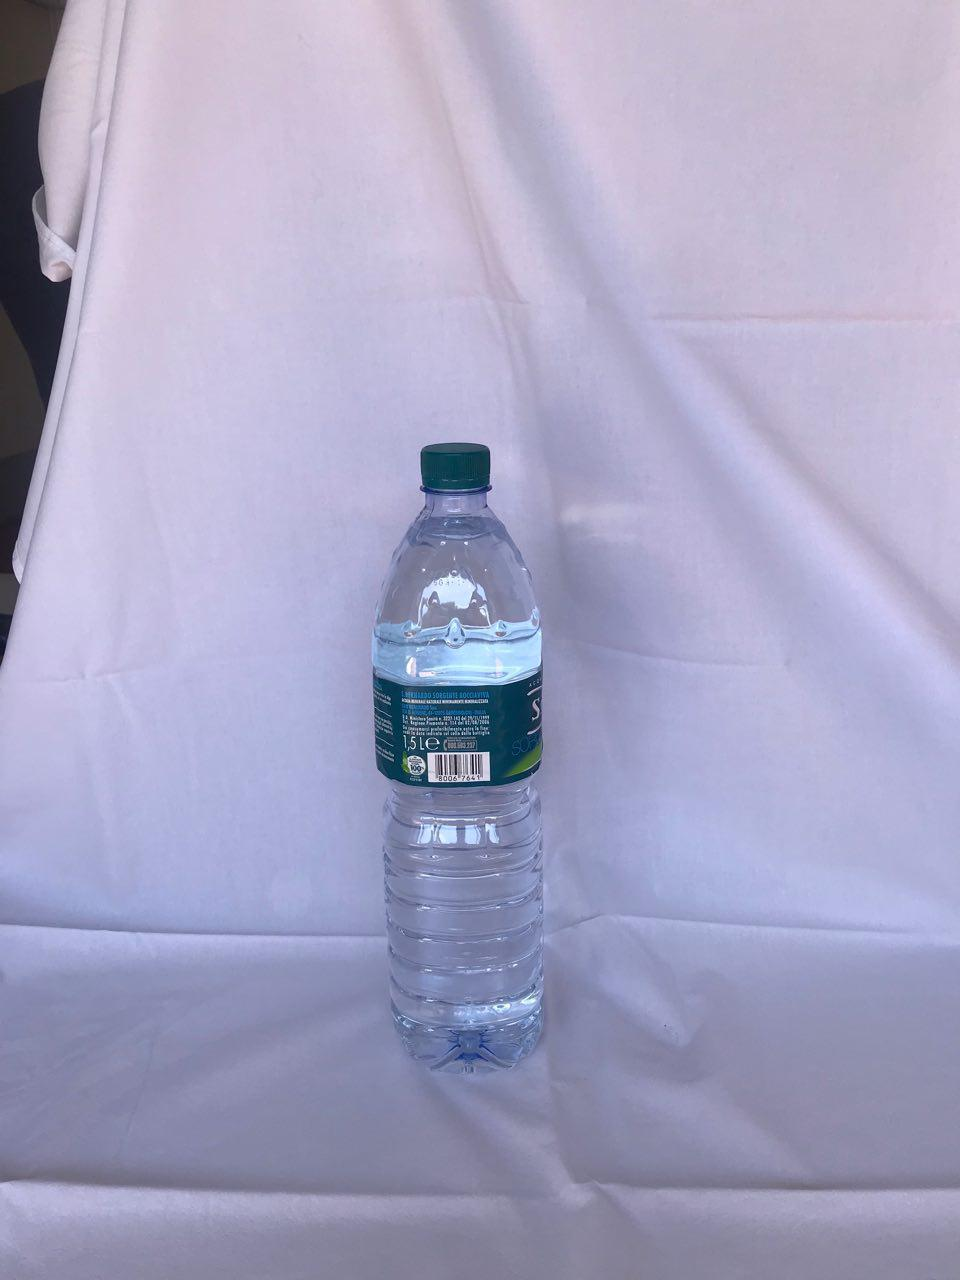san_bernardo: (371, 440, 545, 1076)
